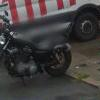Motorcycle: (1, 17, 75, 83)
